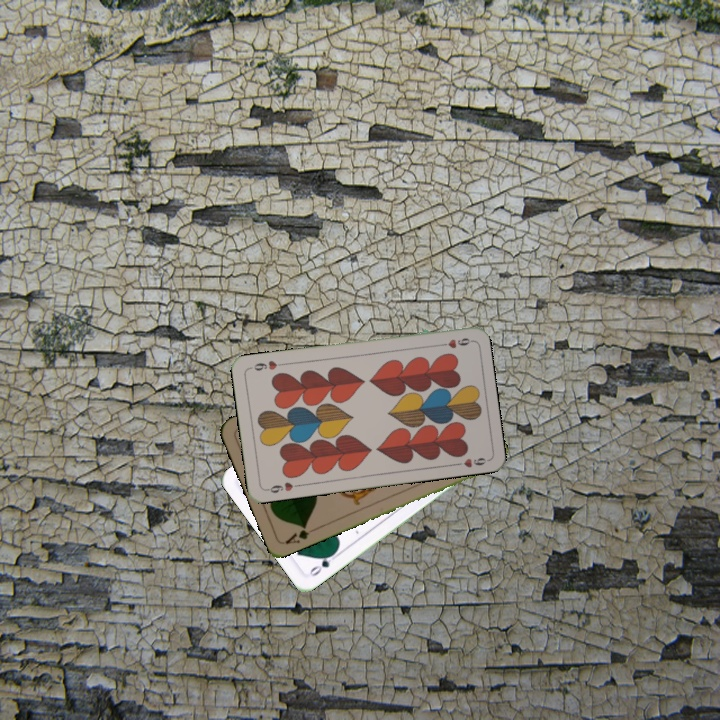GA: (281, 521, 320, 547)
GO: (305, 548, 341, 579)
H9: (262, 478, 303, 496), (433, 334, 474, 351)
